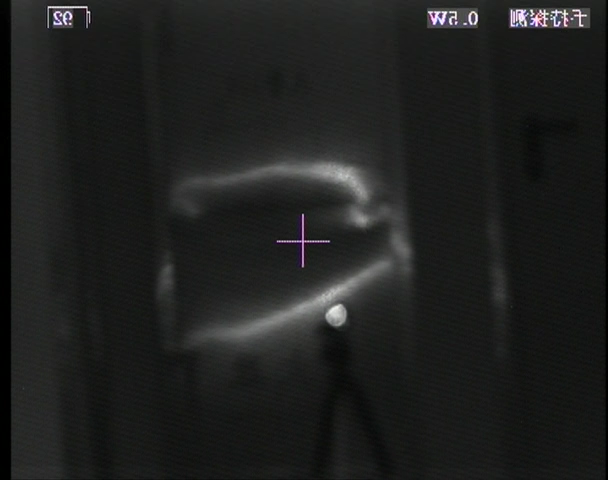my: (323, 301, 351, 329)
